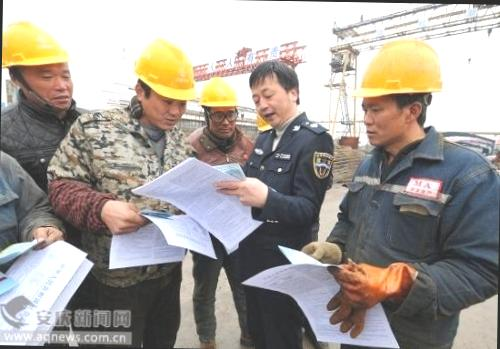no_helmet: (247, 57, 305, 127)
